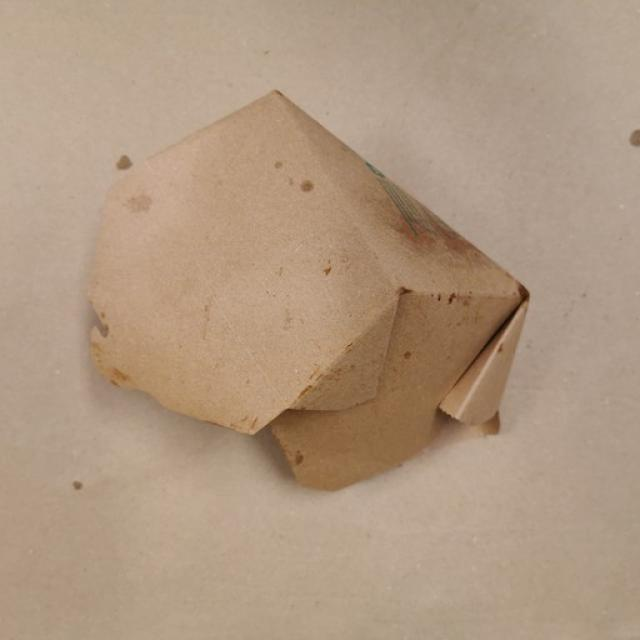PaperCardboard: (81, 94, 533, 475)
